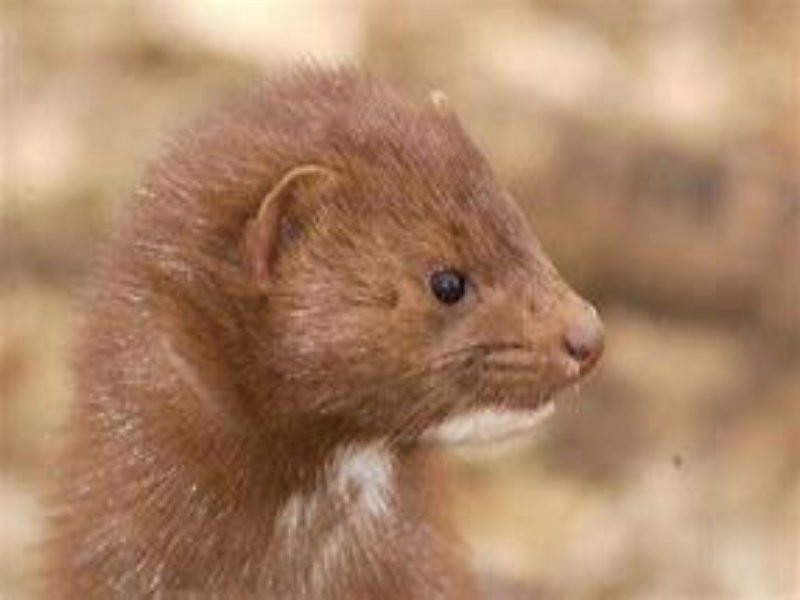minkish: (34, 52, 607, 599)
